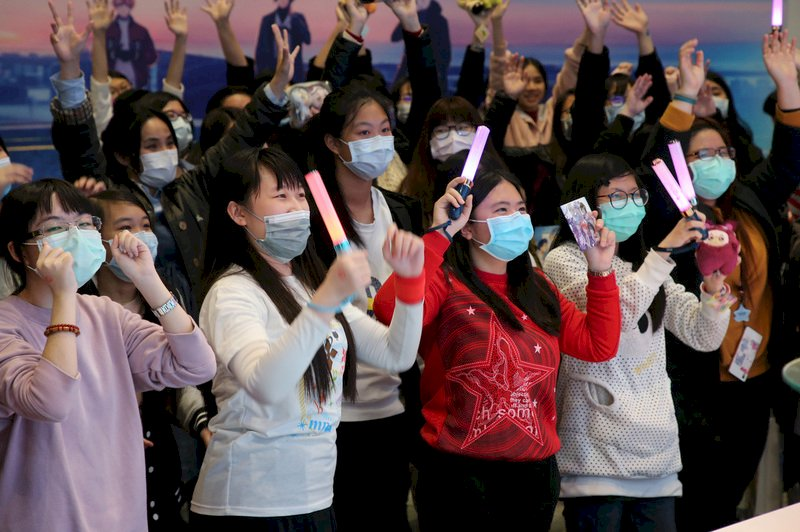with_mask: (14, 196, 100, 280), (242, 166, 307, 253), (110, 197, 153, 293), (346, 102, 392, 175), (476, 187, 524, 256), (591, 166, 639, 234), (690, 129, 732, 196), (134, 118, 173, 186), (601, 80, 645, 135), (434, 107, 473, 157)
without_mask: (515, 64, 545, 101)
